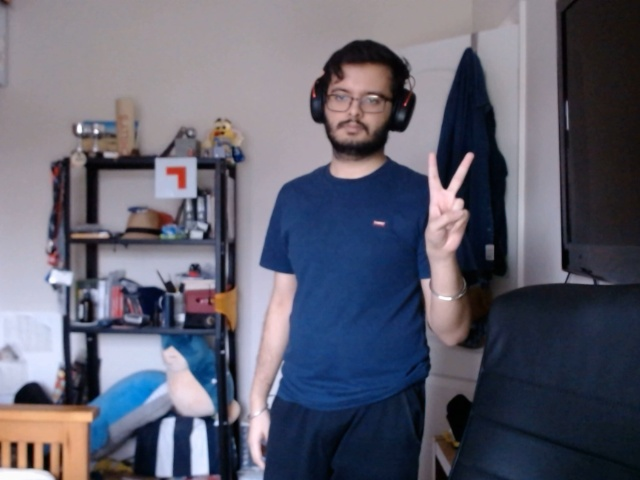Peace: (390, 142, 499, 267)
